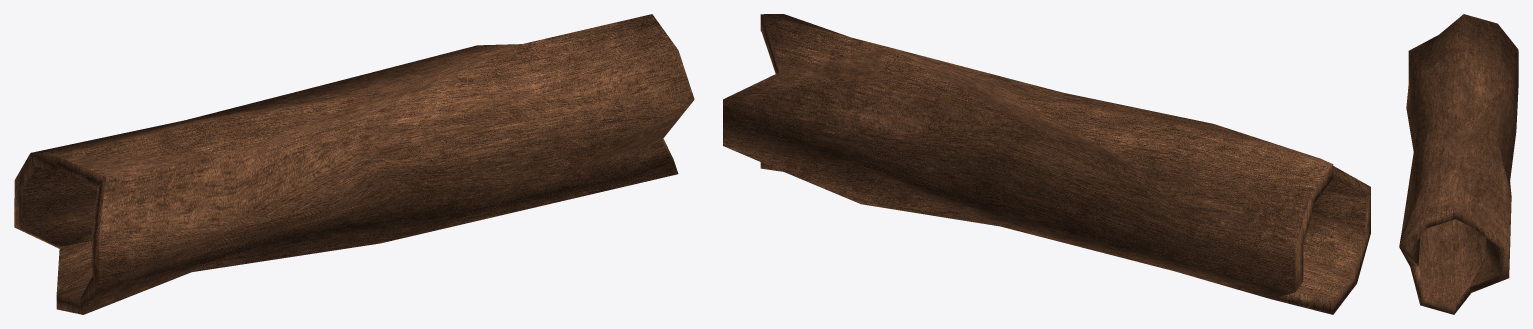
File: TroncoHueco.fbx
3 views of the same model, side by side, from view 1: azimuth 30°, elevation 25°; view 2: azimuth 150°, elevation 25°; view 3: azimuth 270°, elevation 25° (orthographic). The views are drawn at different scales.
Visible parts, largest first — view 1: TroncoHueco; view 2: TroncoHueco; view 3: TroncoHueco.
Part boxes in pixels (x1,y1,x2,y2): TroncoHueco: [14, 14, 694, 314]; TroncoHueco: [723, 14, 1370, 314]; TroncoHueco: [1399, 14, 1518, 314].
Size of the model in its own units: 30.13 by 7.62 by 7.71.
1 material, 1 textured.
